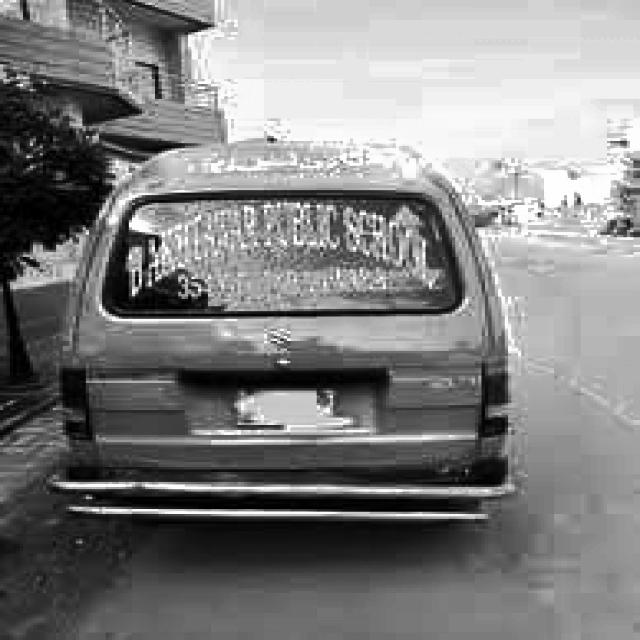LCV: (40, 131, 521, 536)
